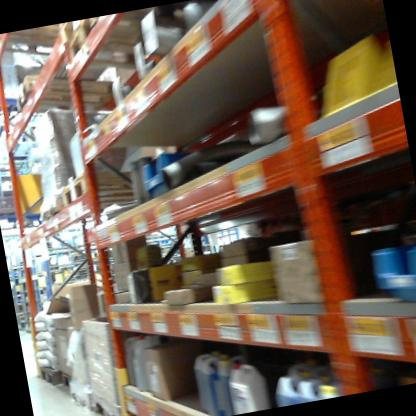pallet: (59, 1, 202, 95), (7, 57, 128, 127), (60, 160, 151, 220), (0, 19, 100, 68), (58, 18, 97, 49), (37, 358, 67, 392), (69, 383, 95, 416), (91, 392, 123, 416), (59, 365, 78, 390)
